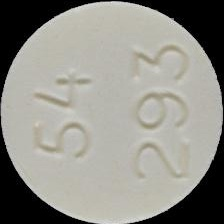54868-3310: (0, 0, 224, 224)
